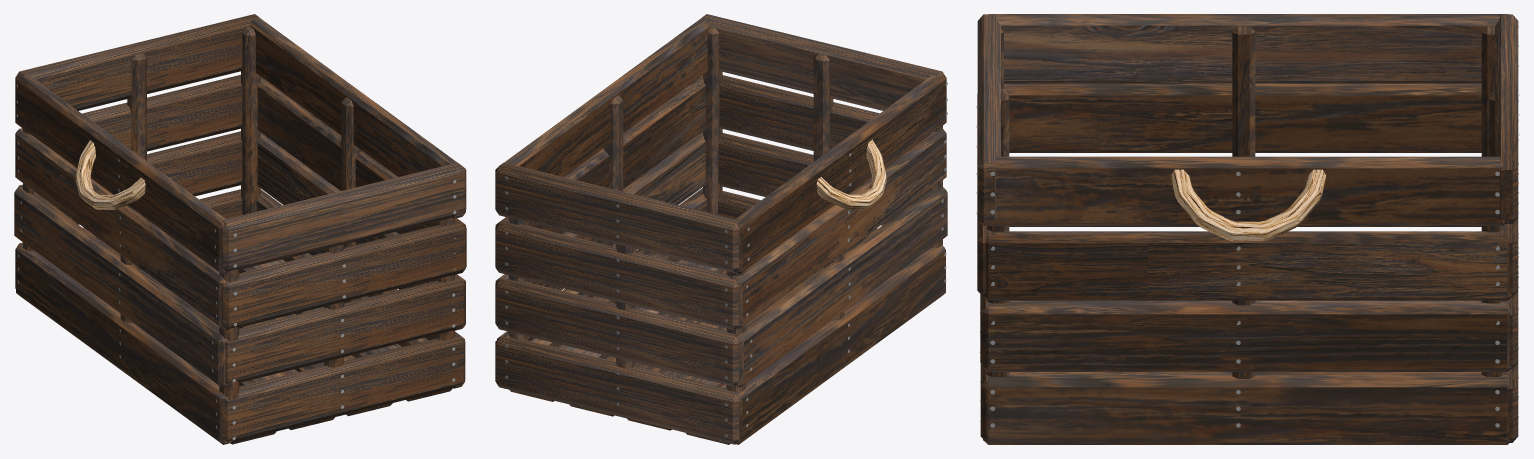
The model's file is crate 2.fbx.
3 renders of one model, left to right at view 1: azimuth 30°, elevation 25°; view 2: azimuth 150°, elevation 25°; view 3: azimuth 270°, elevation 25°, orthographic. The views are drawn at different scales.
Parts seen in each view (by area): view 1: pCube19, pCube20, pCube22, pCube21, pCube10, pCube11, pCube13, pCube12, pCube17, pCube8, pCube18, pCube7 (+11 smaller); view 2: pCube17, pCube15, pCube18, pCube16, pCube10, pCube11, pCube13, pCube12, pCube19, pCube8, pCube20, pCube7 (+11 smaller); view 3: pCube6, pCube5, pCube7, pCube8, pCube13, pCube12, pCube17, pCube19, pCube32, pCube28, pCube2, pCube25 (+7 smaller).
Part boxes in pixels (<box>): pCube19: <box>222,162,466,272</box>; pCube20: <box>222,220,466,330</box>; pCube22: <box>221,336,465,443</box>; pCube21: <box>224,278,465,383</box>; pCube10: <box>14,186,227,387</box>; pCube11: <box>16,244,232,444</box>; pCube13: <box>15,74,225,274</box>; pCube12: <box>15,128,225,328</box>; pCube17: <box>15,14,259,110</box>; pCube8: <box>250,17,465,218</box>; pCube18: <box>19,75,242,151</box>; pCube7: <box>257,77,465,270</box>; pCube17: <box>495,162,739,272</box>; pCube15: <box>495,336,740,444</box>; pCube18: <box>495,220,739,330</box>; pCube16: <box>495,278,739,386</box>; pCube10: <box>733,187,947,387</box>; pCube11: <box>731,245,945,444</box>; pCube13: <box>732,74,946,274</box>; pCube12: <box>730,129,946,328</box>; pCube19: <box>702,14,946,110</box>; pCube8: <box>504,17,711,176</box>; pCube20: <box>719,75,879,150</box>; pCube7: <box>495,75,705,271</box>; pCube6: <box>983,302,1512,371</box>; pCube5: <box>983,375,1510,444</box>; pCube7: <box>983,231,1512,300</box>; pCube8: <box>978,156,1505,225</box>; pCube13: <box>988,14,1507,83</box>; pCube12: <box>1004,83,1481,152</box>; pCube17: <box>1495,14,1518,223</box>; pCube19: <box>977,14,1000,220</box>; pCube32: <box>1171,169,1325,241</box>; pCube28: <box>1232,26,1255,156</box>; pCube2: <box>1009,372,1481,375</box>; pCube25: <box>1481,26,1494,156</box>.
Size of the model in its own units: 8.61 by 6.1 by 10.41.
Materials: 3 (2 with a texture image).
